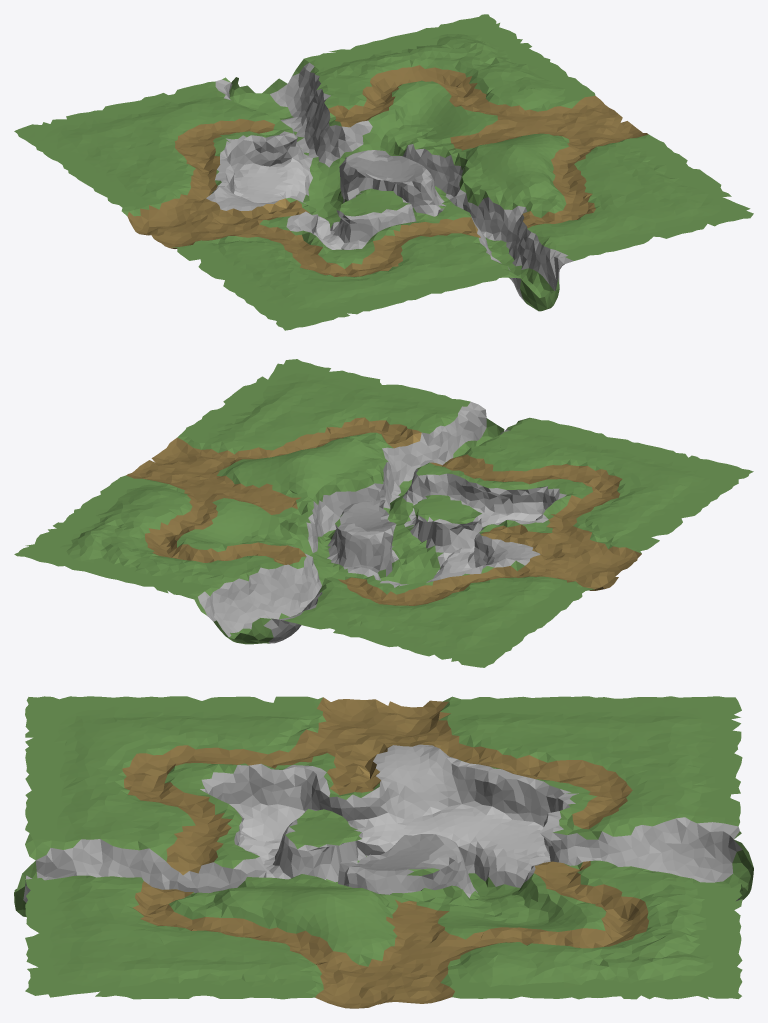
File: MapV2.fbx
The picture shows the model from 3 angles, top to bottom: view 1: azimuth 30°, elevation 25°; view 2: azimuth 150°, elevation 25°; view 3: azimuth 270°, elevation 25°; orthographic projection. The views are drawn at different scales.
Visible parts, largest first — view 1: Plane; view 2: Plane; view 3: Plane.
Boxes of the visible parts, left/top/right/bottom form: Plane: left=14, top=14, right=753, bottom=330; Plane: left=14, top=359, right=753, bottom=667; Plane: left=14, top=696, right=753, bottom=1008.
Bounding box in the file's own units: 2864 × 389 × 2940.
